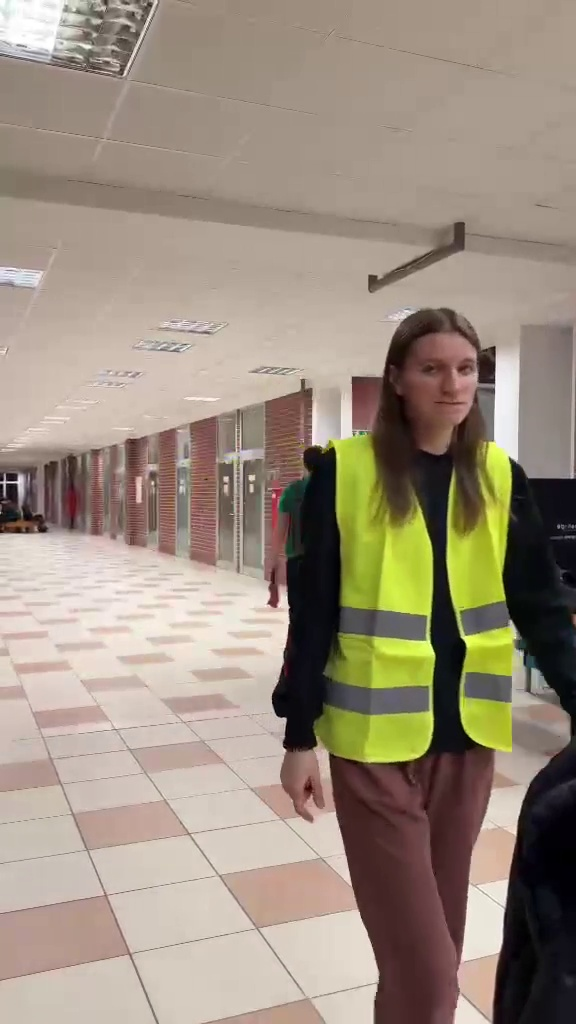vest: (283, 304, 562, 994)
